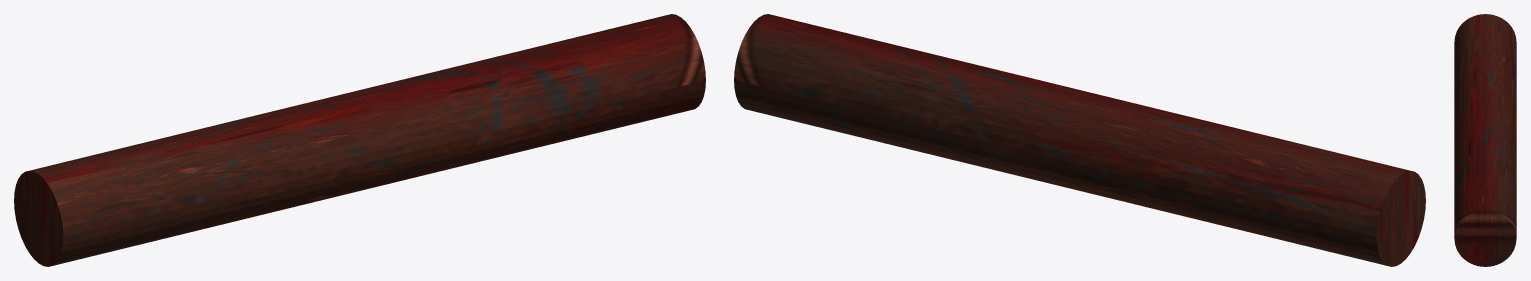
Rendered from pipe.fbx.
The picture shows the model from 3 angles, left to right: view 1: azimuth 30°, elevation 25°; view 2: azimuth 150°, elevation 25°; view 3: azimuth 270°, elevation 25°; orthographic projection. The views are drawn at different scales.
Parts seen in each view (by area): view 1: pipes; view 2: pipes; view 3: pipes.
Boxes of the visible parts, bbox=[...] form: pipes: bbox=[14, 14, 705, 266]; pipes: bbox=[734, 14, 1425, 266]; pipes: bbox=[1454, 14, 1516, 266].
Size of the model in its own units: 406 by 53.78 by 54.01.
Materials: 1 (1 with a texture image).
